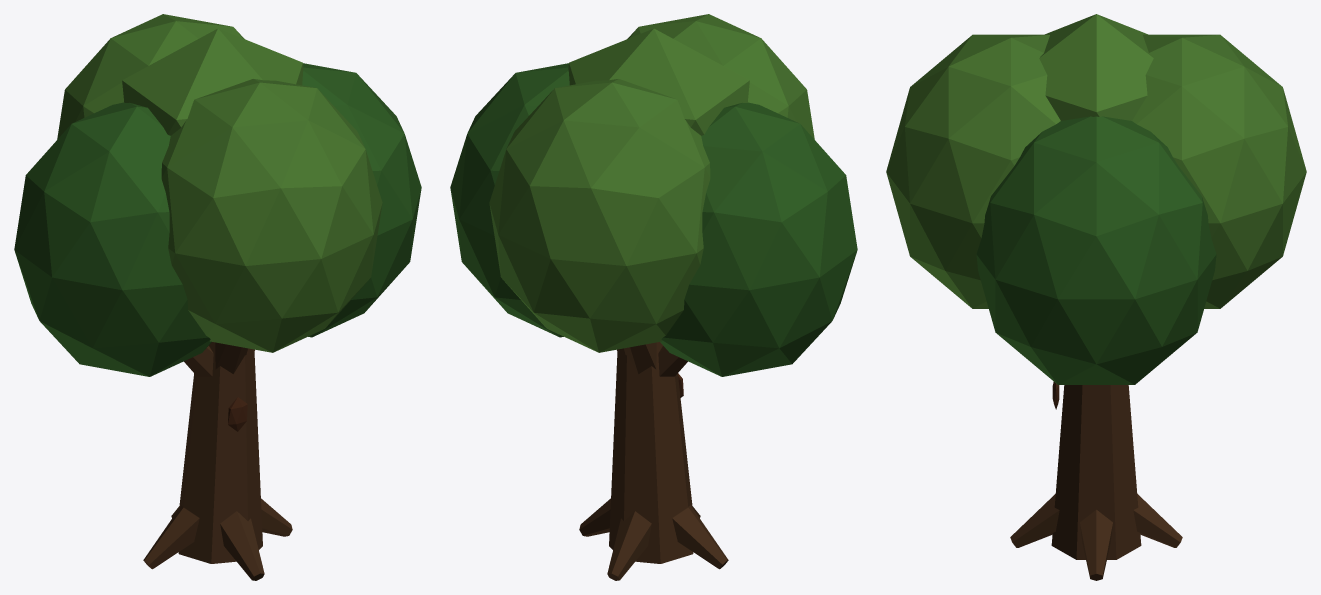
The model's file is Tree3.fbx.
3 renders of one model, left to right at view 1: azimuth 30°, elevation 25°; view 2: azimuth 150°, elevation 25°; view 3: azimuth 270°, elevation 25°, orthographic.
Parts seen in each view (by area): view 1: Tree3_Mesh; view 2: Tree3_Mesh; view 3: Tree3_Mesh.
Part boxes in pixels (<box>): Tree3_Mesh: <box>14,14,421,580</box>; Tree3_Mesh: <box>450,14,857,580</box>; Tree3_Mesh: <box>886,14,1306,580</box>.
Size of the model in its own units: 1.32 by 1.79 by 1.28.
